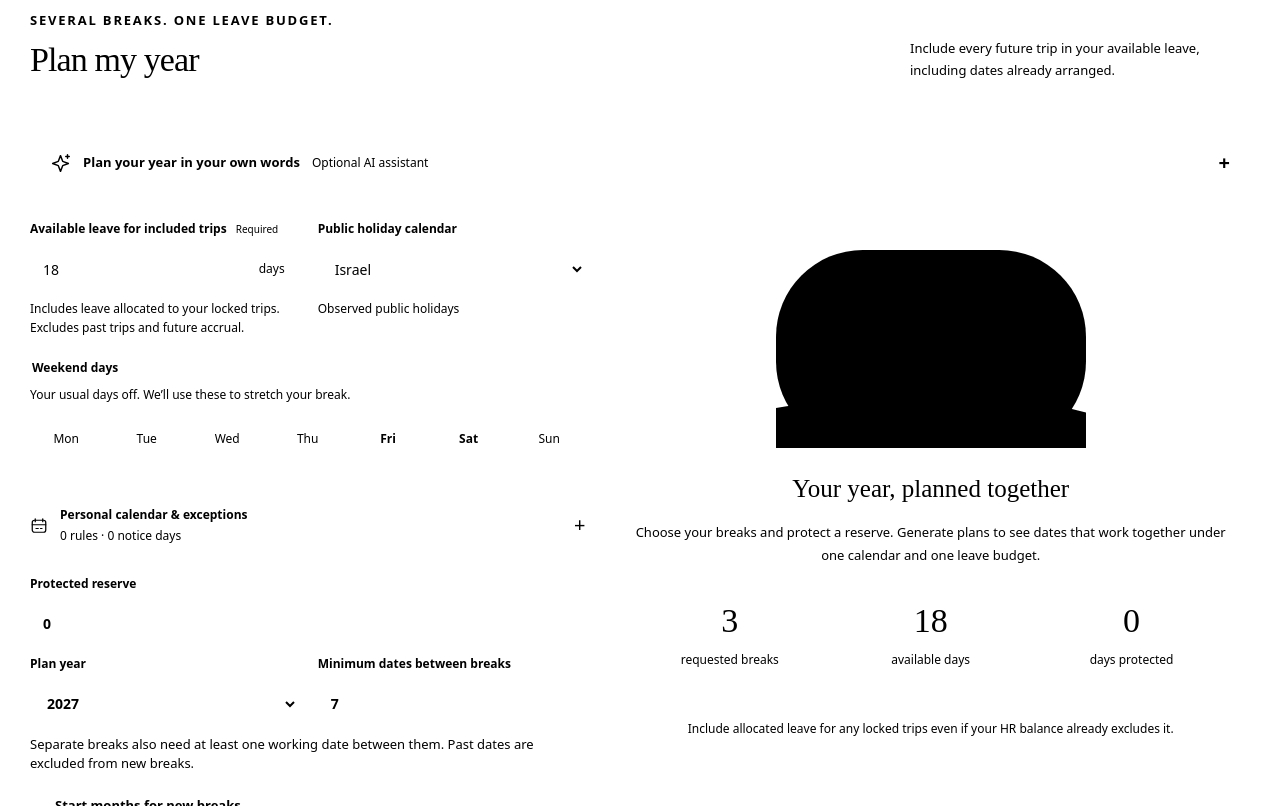
Scenario: the selected annual plan has a private image preview and readable text equivalent
Replace the text in the number field labelled "Protected reserve" with "3" at (164, 624), box top-left (30, 601), bottom-right (298, 647)
(page scrolled)
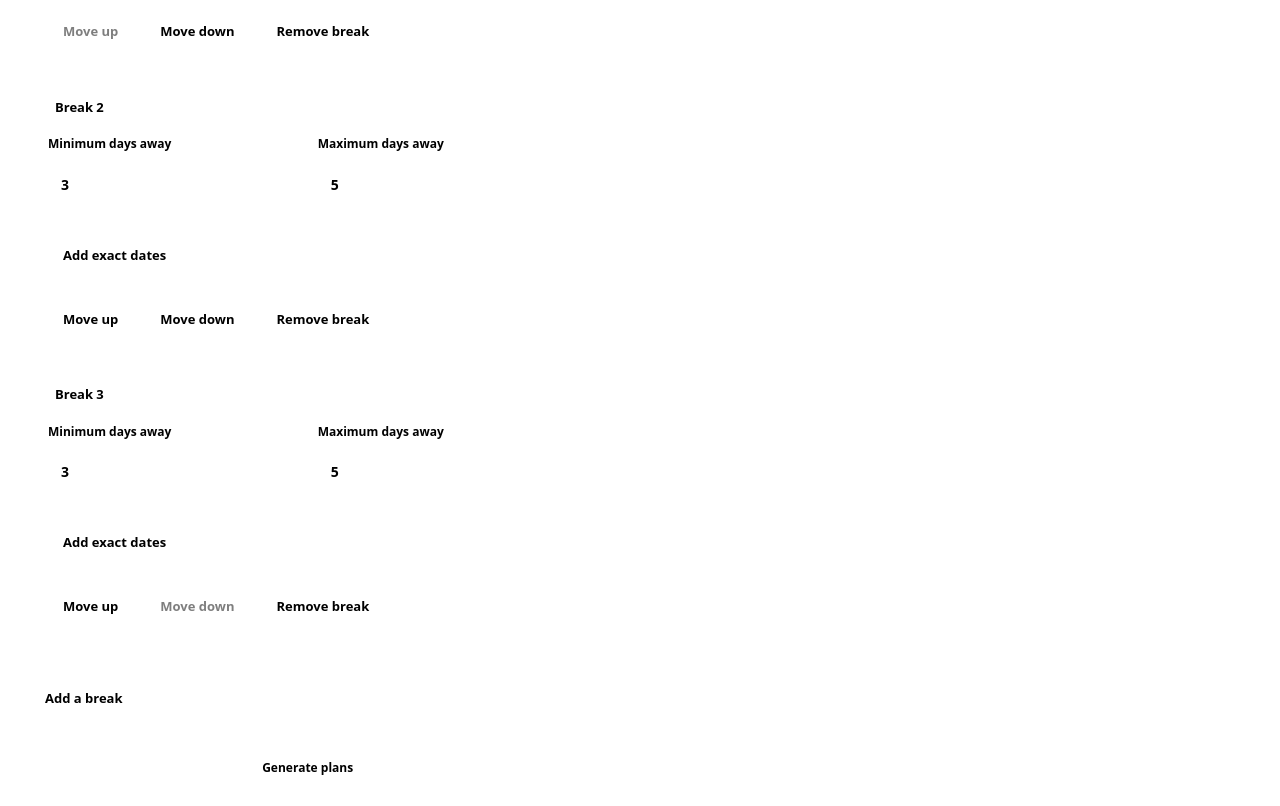
Click the button "Generate plans" at (308, 768), box top-left (30, 745), bottom-right (585, 791)
(page scrolled)
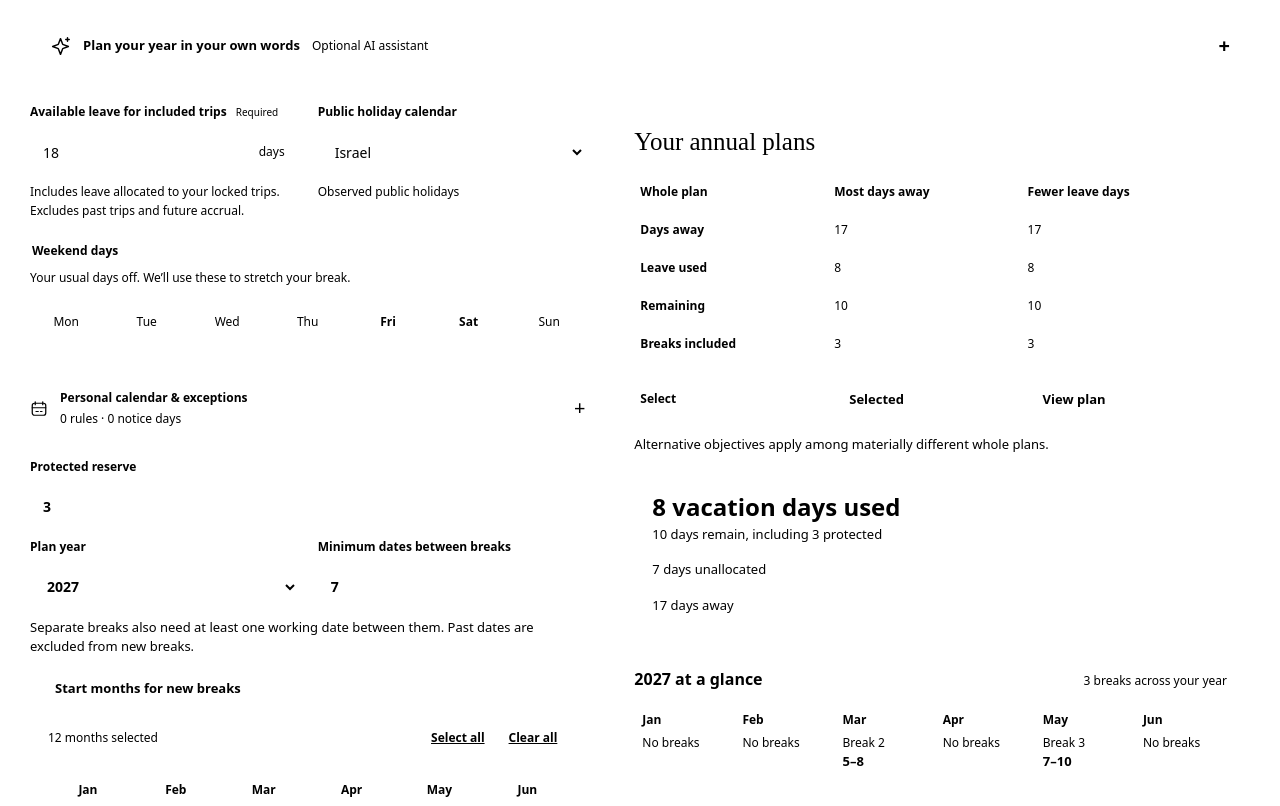
Click the button with aria-label "View Fewer leave days" at (1074, 399), box top-left (1028, 377), bottom-right (1120, 421)
(page scrolled)
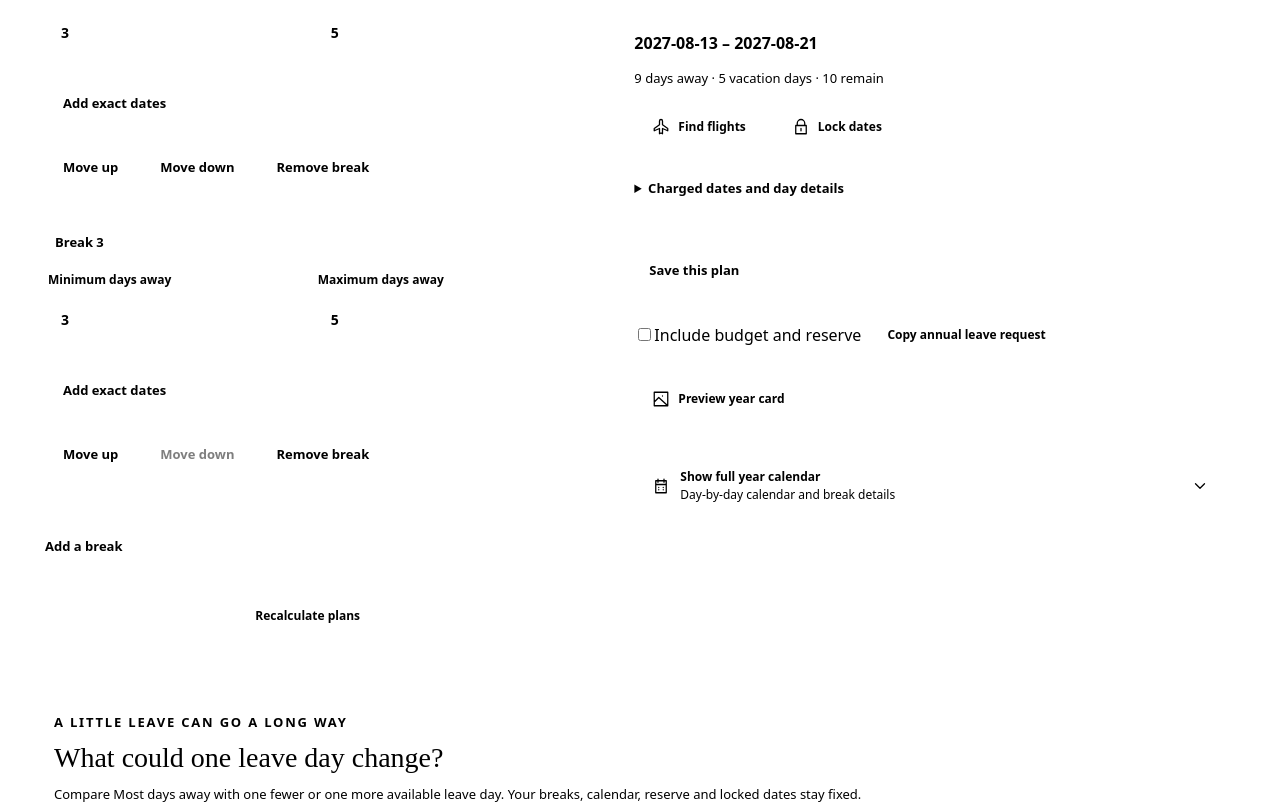
Expected: the button "Preview year card" is enabled
Click the button "Preview year card" at (718, 399), box top-left (634, 376), bottom-right (803, 422)
(page scrolled)
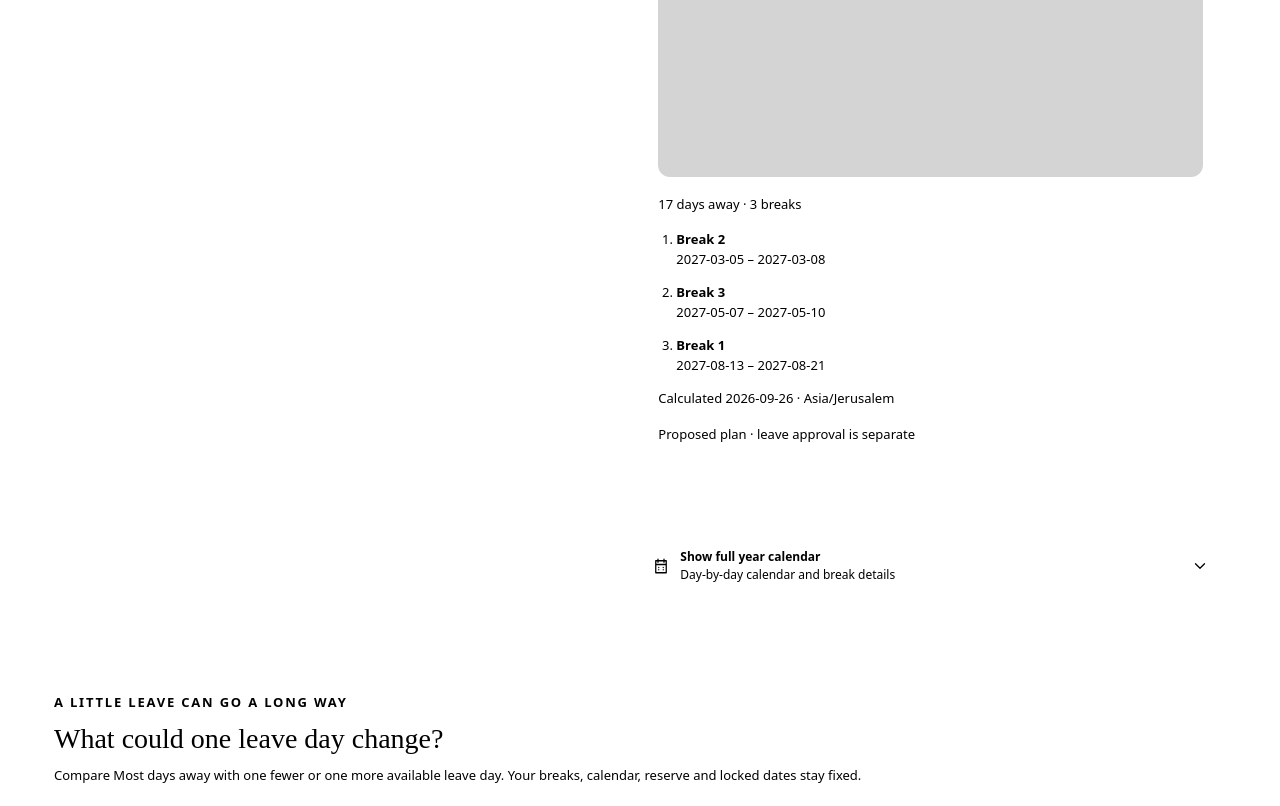
Expected: the text "17 days away · 3 breaks" is shown, top-left (658, 195), bottom-right (802, 213)
Expected: the text "2027-08-13 – 2027-08-21" is shown, top-left (676, 356), bottom-right (825, 374)
Expected: the text "Calculated 2026-09-26 · Asia/Jerusalem" is shown, top-left (658, 390), bottom-right (894, 408)
